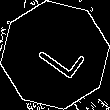L_NW: (25, 27, 85, 83)
